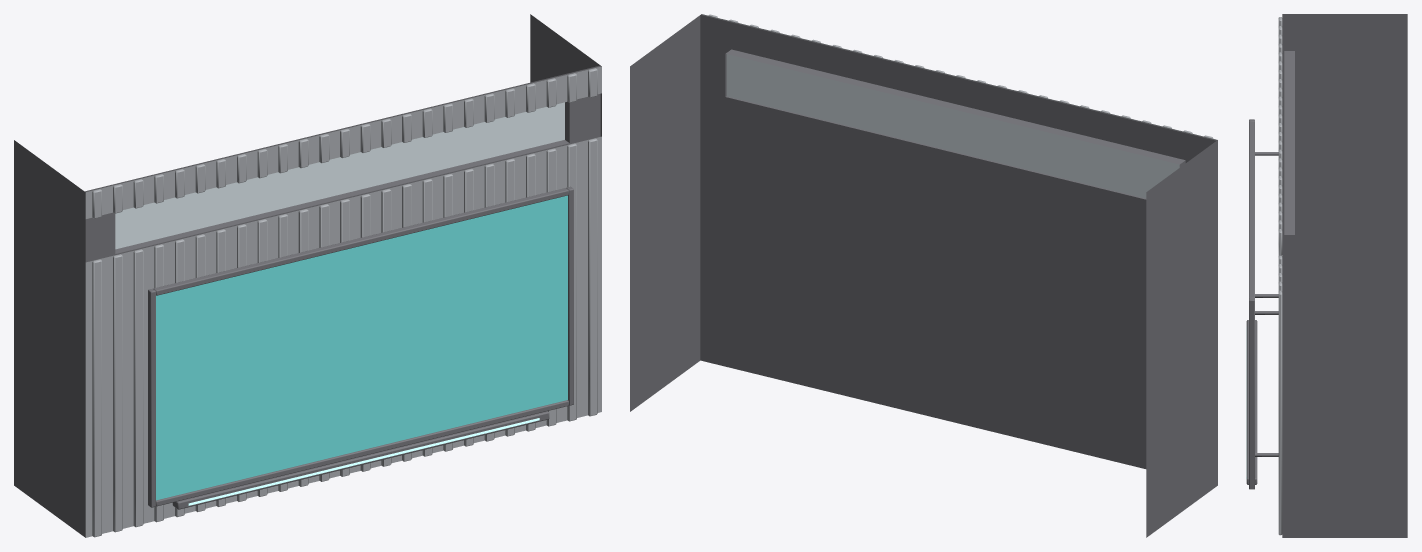
Rendered from retro_upper_5c.glb.
The picture shows the model from 3 angles, left to right: view 1: azimuth 30°, elevation 25°; view 2: azimuth 150°, elevation 25°; view 3: azimuth 270°, elevation 25°; orthographic projection. The views are drawn at different scales.
Visible parts, largest first — view 1: retro_upper_5c; view 2: retro_upper_5c; view 3: retro_upper_5c.
Boxes of the visible parts, bbox=[...] form: retro_upper_5c: bbox=[14, 14, 601, 537]; retro_upper_5c: bbox=[630, 14, 1217, 537]; retro_upper_5c: bbox=[1246, 14, 1407, 537].
Size of the model in its own units: 5 by 3.2 by 1.55.
